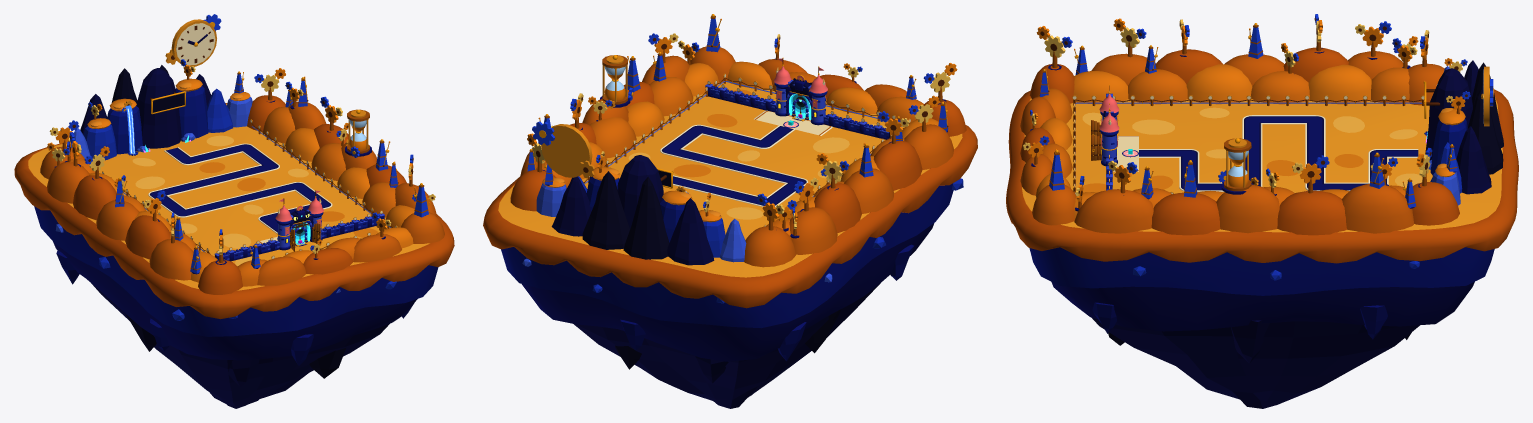
The model's file is time_warp_base.fbx.
The picture shows the model from 3 angles, left to right: view 1: azimuth 30°, elevation 25°; view 2: azimuth 150°, elevation 25°; view 3: azimuth 270°, elevation 25°; orthographic projection. The views are drawn at different scales.
Parts seen in each view (by area): view 1: Base_Backdrop, Base_Cliff, Base_Ground, Base_Trees, Base_Road, Base_Gate, Base_Dressing, Base_GateTrim; view 2: Base_Cliff, Base_Backdrop, Base_Ground, Base_Trees, Base_Road, Base_Gate, Base_Dressing, Base_GateTrim; view 3: Base_Cliff, Base_Backdrop, Base_Ground, Base_Trees, Base_Road, Base_Dressing, Base_Gate, Base_GateTrim.
Part boxes in pixels (box(x1,y1,x2,y2)): Base_Backdrop: box(40, 14, 444, 294); Base_Cliff: box(14, 103, 454, 408); Base_Ground: box(28, 103, 429, 290); Base_Trees: box(47, 59, 435, 274); Base_Road: box(148, 143, 332, 244); Base_Gate: box(214, 190, 384, 261); Base_Dressing: box(102, 119, 397, 259); Base_GateTrim: box(275, 190, 323, 235); Base_Cliff: box(483, 125, 977, 408); Base_Backdrop: box(510, 46, 966, 267); Base_Ground: box(498, 82, 962, 277); Base_Trees: box(527, 14, 957, 238); Base_Road: box(660, 110, 832, 206); Base_Gate: box(705, 57, 890, 139); Base_Dressing: box(583, 73, 910, 240); Base_GateTrim: box(773, 58, 827, 127); Base_Cliff: box(1006, 89, 1518, 408); Base_Backdrop: box(1020, 47, 1503, 235); Base_Ground: box(1022, 97, 1502, 232); Base_Trees: box(1023, 14, 1470, 211); Base_Road: box(1113, 115, 1418, 191); Base_Dressing: box(1072, 95, 1424, 194); Base_Gate: box(1091, 85, 1138, 190); Base_GateTrim: box(1099, 94, 1137, 156).
Bounding box in the file's own units: 188 × 194 × 244.
